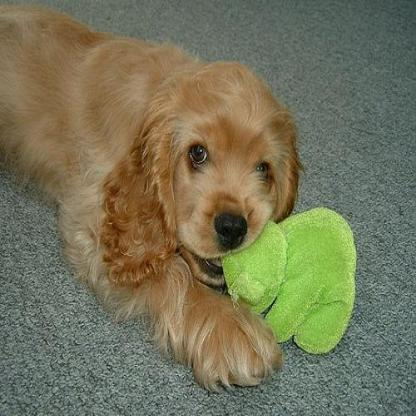cocker_spaniel: (0, 0, 302, 390)
